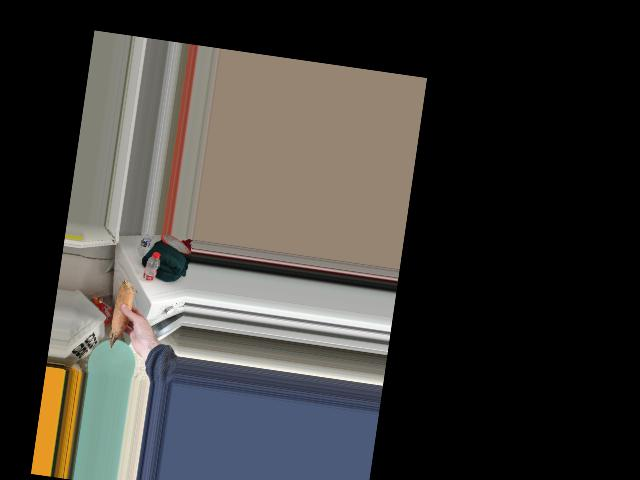sweet_potato: (108, 285, 139, 349)
